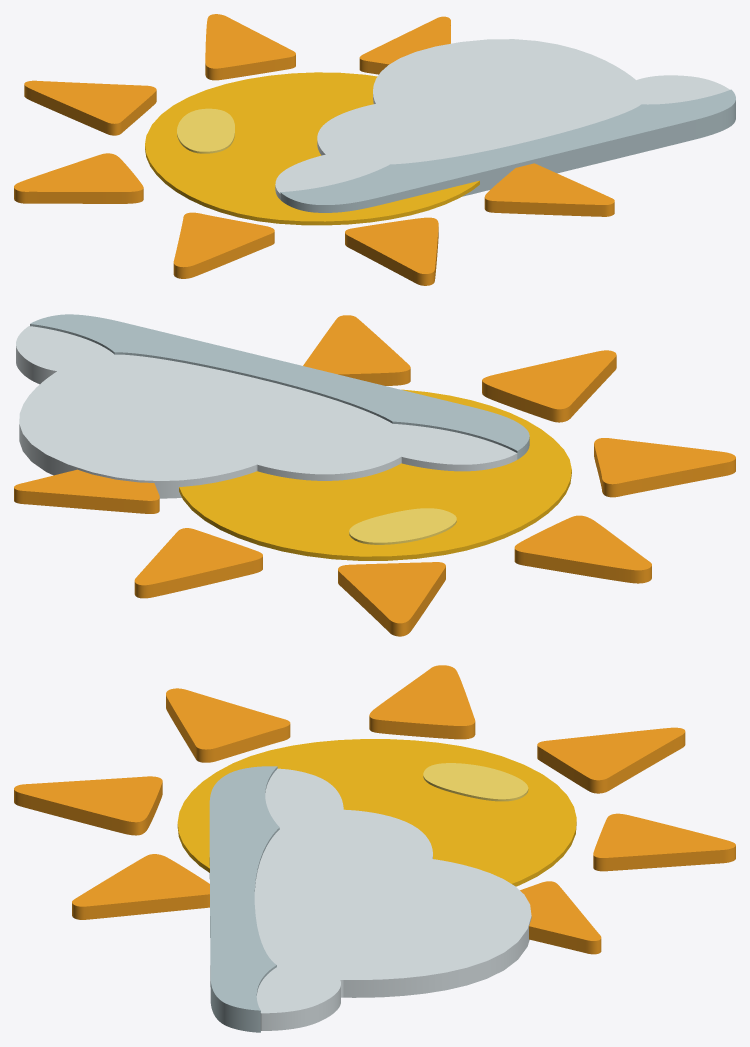
Rendered from emoji_u1f324.glb.
3 renders of one model, top to bottom at view 1: azimuth 30°, elevation 25°; view 2: azimuth 150°, elevation 25°; view 3: azimuth 270°, elevation 25°, orthographic. The views are drawn at different scales.
Visible parts, largest first — view 1: emoji_u1f324; view 2: emoji_u1f324; view 3: emoji_u1f324.
Part boxes in pixels (x1,y1,x2,y2): emoji_u1f324: (14, 14, 735, 285); emoji_u1f324: (14, 314, 735, 636); emoji_u1f324: (14, 665, 735, 1032).
Bounding box in the file's own units: 0.0339 × 0.001 × 0.0295.
